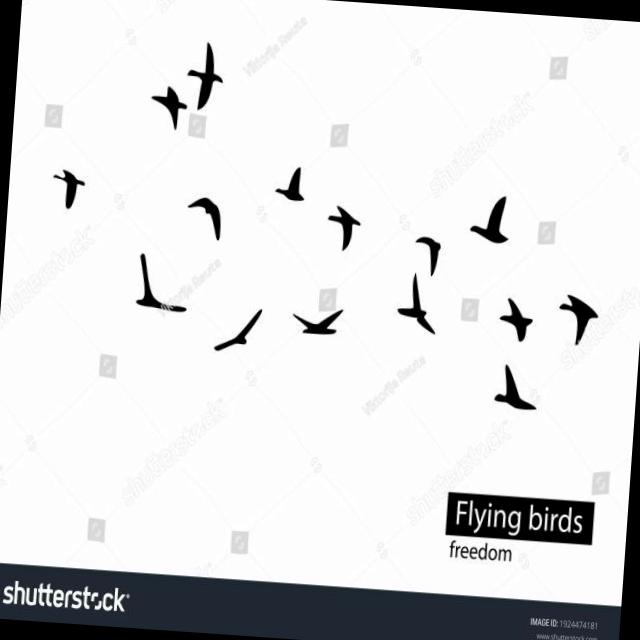bird: (172, 32, 235, 128), (482, 353, 542, 422), (118, 252, 186, 312), (208, 294, 270, 358), (554, 279, 606, 353), (390, 271, 441, 337), (289, 296, 353, 348), (149, 76, 198, 140), (310, 199, 368, 253), (44, 162, 96, 220), (265, 155, 313, 216), (466, 194, 514, 246), (494, 284, 534, 341), (184, 192, 233, 238), (405, 222, 450, 270)
